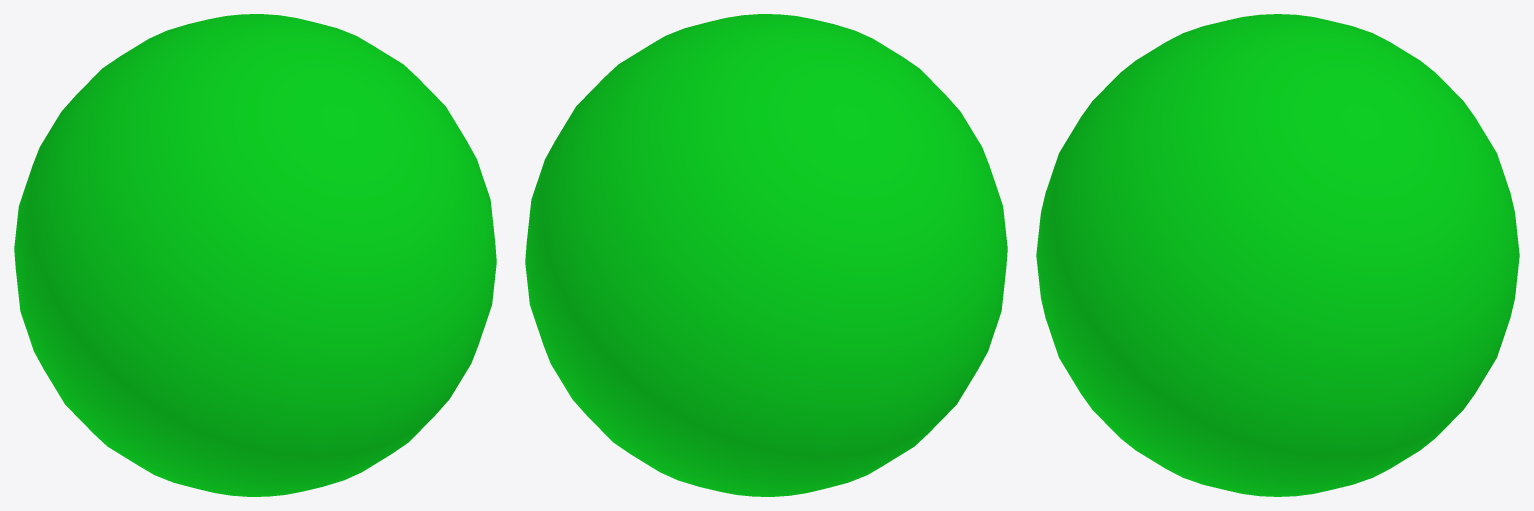
File: hdr-green.glb
3 renders of one model, left to right at view 1: azimuth 30°, elevation 25°; view 2: azimuth 150°, elevation 25°; view 3: azimuth 270°, elevation 25°, orthographic.
Visible parts, largest first — view 1: 球体; view 2: 球体; view 3: 球体.
Part boxes in pixels (x1,y1,x2,y2): 球体: (14,14,496,496); 球体: (525,14,1007,496); 球体: (1036,14,1519,496).
Size of the model in its own units: 18.49 by 18.49 by 18.49.
1 material, 1 textured.
